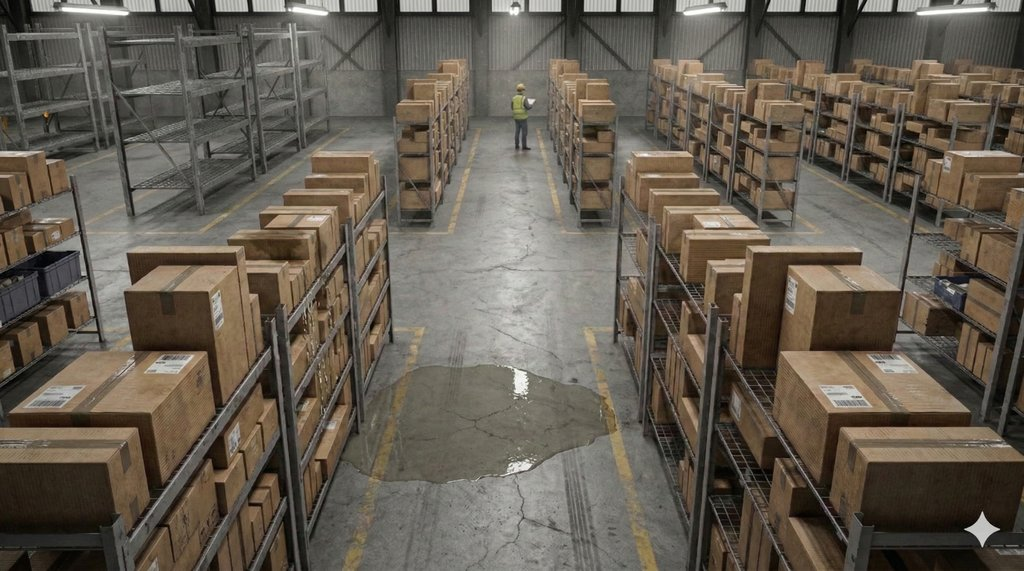empty_shelf: (110, 31, 246, 187), (9, 29, 103, 141), (259, 27, 336, 140)
person: (506, 83, 546, 173)
safety_vest: (511, 96, 528, 125)
spill: (362, 325, 617, 515)
